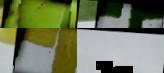Ripe: (10, 28, 77, 73)
Unripe: (0, 0, 70, 28), (93, 0, 163, 28)
